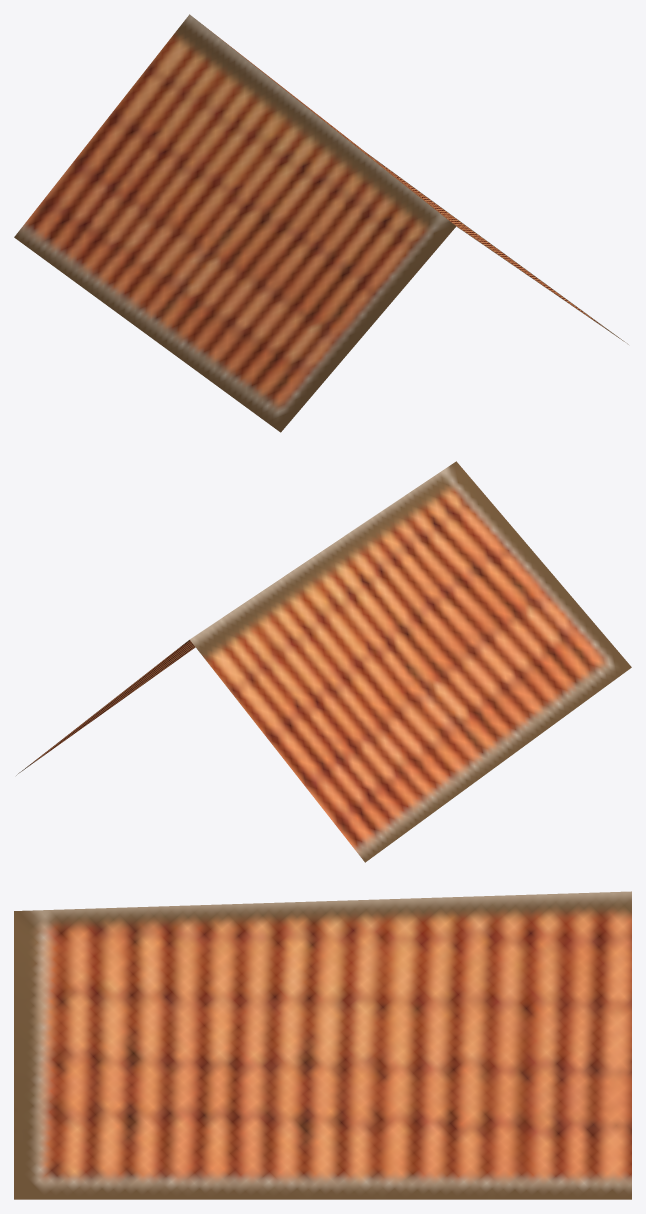
File: SauTamGiacTrai.glb
3 views of the same model, one above another, from view 1: azimuth 30°, elevation 25°; view 2: azimuth 150°, elevation 25°; view 3: azimuth 270°, elevation 25° (orthographic). The views are drawn at different scales.
Parts seen in each view (by area): view 1: Object_4.007; view 2: Object_4.007; view 3: Object_4.007.
Boxes of the visible parts, <box> form: Object_4.007: <box>14,14,628,432</box>; Object_4.007: <box>16,461,631,862</box>; Object_4.007: <box>14,891,631,1199</box>.
Size of the model in its own units: 0.1506 by 0.0739 by 0.1982.
Materials: 1 (1 with a texture image).
